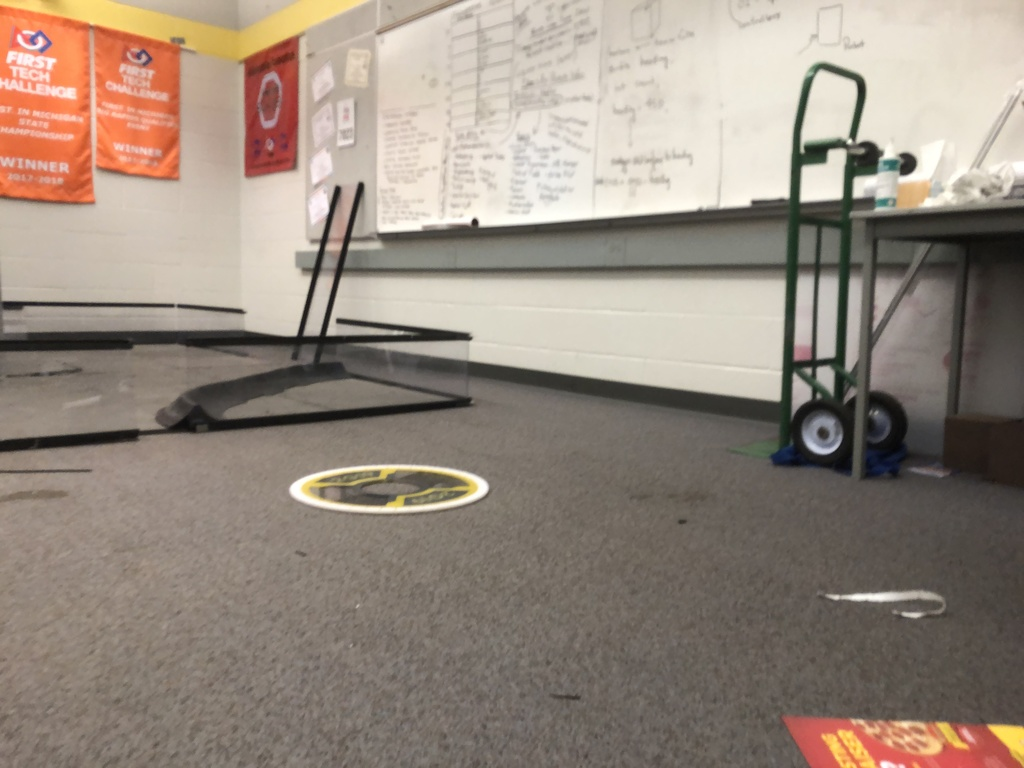hatch_panel: (285, 460, 487, 524)
